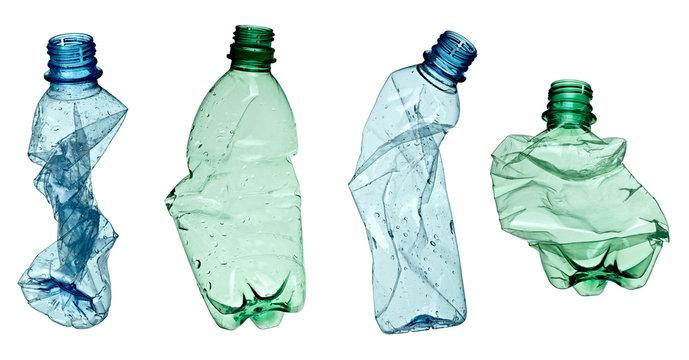organic: (18, 31, 130, 331)
